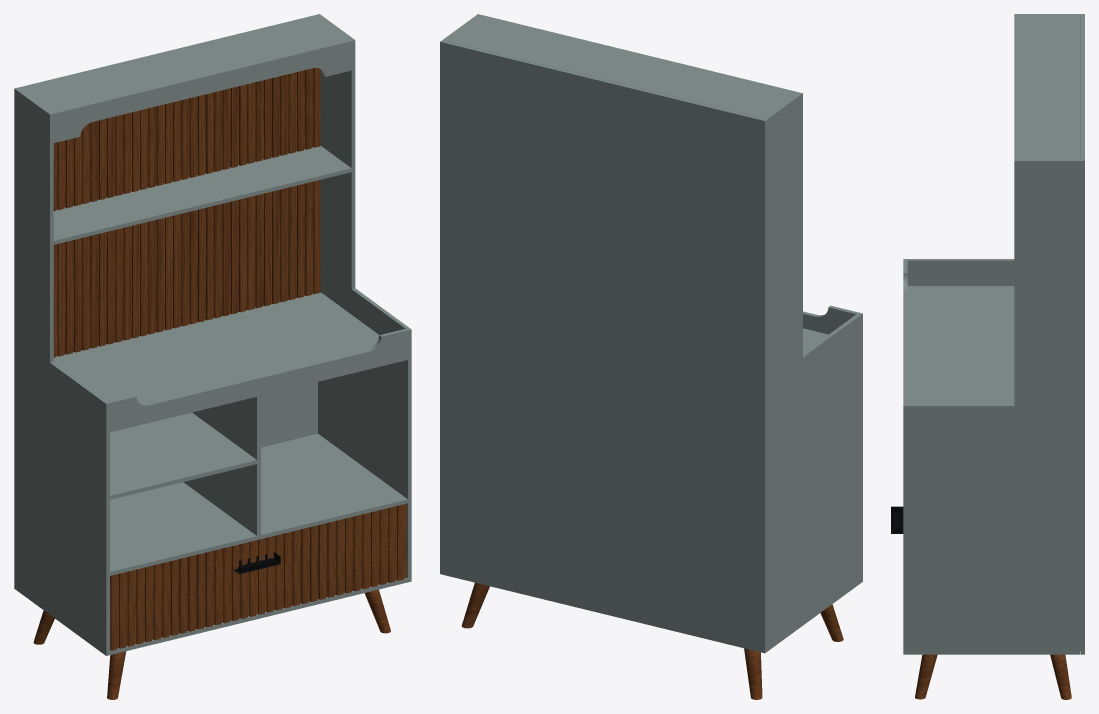
The model's file is cantinhodocafe.glb.
3 renders of one model, left to right at view 1: azimuth 30°, elevation 25°; view 2: azimuth 150°, elevation 25°; view 3: azimuth 270°, elevation 25°, orthographic. The views are drawn at different scales.
Visible parts, largest first — view 1: Plane.002, Plane, Plane.007, Plane.044, Plane.005, Plane.003, Plane.010, Plane.006, Plane.004, Cylinder.002; view 2: Plane.006, Plane, Plane.002, Plane.003, Cylinder.001, Cylinder.003; view 3: Plane, Plane.002, Plane.006, Plane.003, Cylinder.003, Cylinder.004, Plane.009.
Part boxes in pixels (box(x1,y1,x2,y2)): Plane.002: box(16, 16, 411, 655); Plane: box(16, 15, 411, 651); Plane.007: box(53, 68, 320, 357); Plane.044: box(56, 68, 313, 355); Plane.005: box(53, 146, 351, 244); Plane.003: box(108, 329, 407, 428); Plane.010: box(110, 503, 406, 649); Plane.006: box(14, 14, 321, 589); Plane.004: box(53, 45, 351, 142); Cylinder.002: box(107, 651, 126, 699); Plane.006: box(440, 40, 767, 653); Plane: box(443, 14, 862, 647); Plane.002: box(447, 15, 862, 651); Plane.003: box(803, 305, 858, 334); Cylinder.001: box(744, 648, 762, 699); Cylinder.003: box(461, 582, 489, 628); Plane: box(903, 14, 1080, 650); Plane.002: box(903, 15, 1080, 654); Plane.006: box(1080, 14, 1084, 654); Plane.003: box(903, 260, 907, 403); Cylinder.003: box(1050, 654, 1071, 699); Cylinder.004: box(915, 654, 937, 699); Plane.009: box(891, 506, 903, 533).
Bounding box in the file's own units: 0.805 × 1.39 × 0.4482.
Materials: 3 (2 with a texture image).
